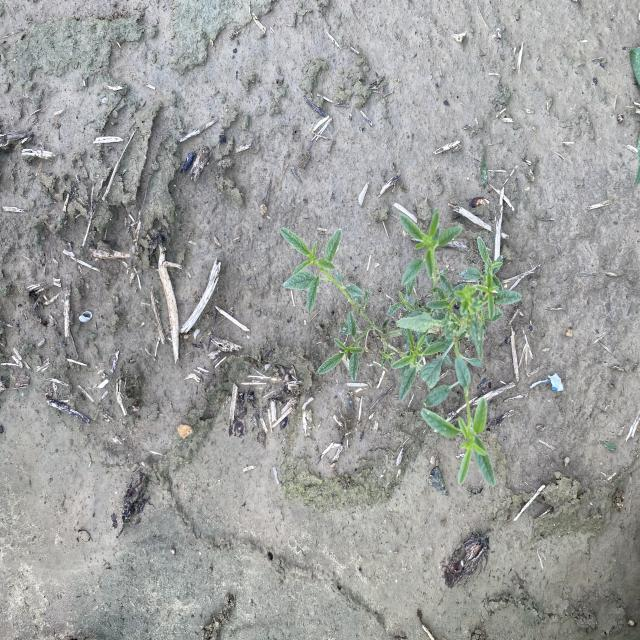Waterhemp: (278, 206, 522, 490)
